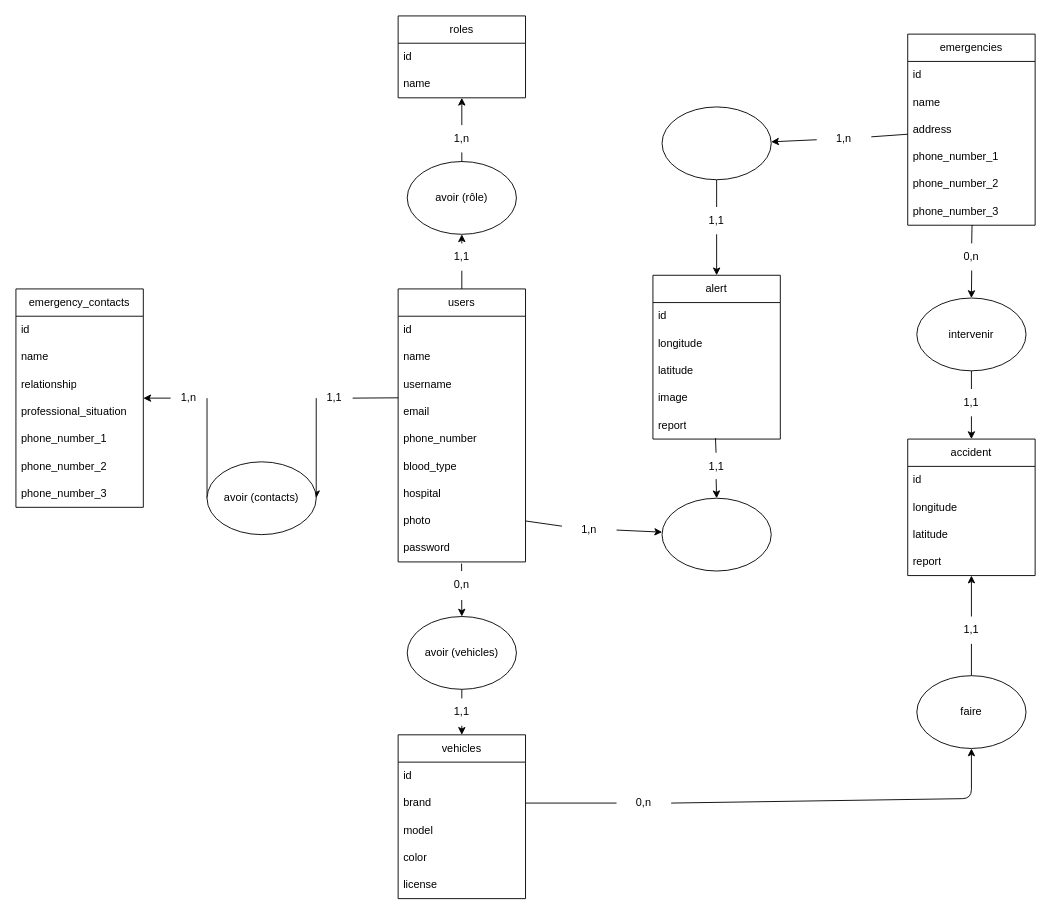
Some shapes in this 1051 by 915 pixel diagram are drawn without their labels. Each missing label, with the centre of its shape:
"lancer" goes at pixel 716 534.
"répondre" goes at pixel 716 143.
